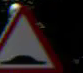Speed Breaker ahead: (0, 3, 61, 72)
